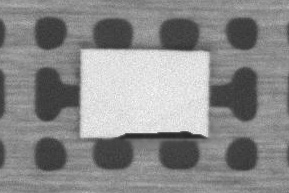DIE_BROKEN: (117, 125, 208, 139)
